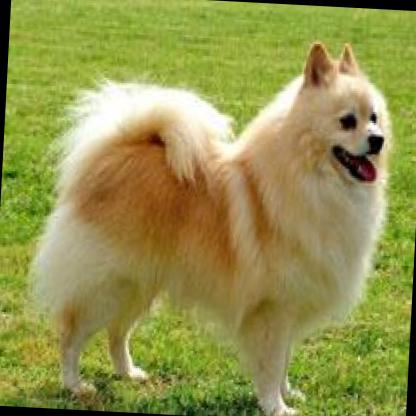Pomeranian: (15, 22, 399, 416)
